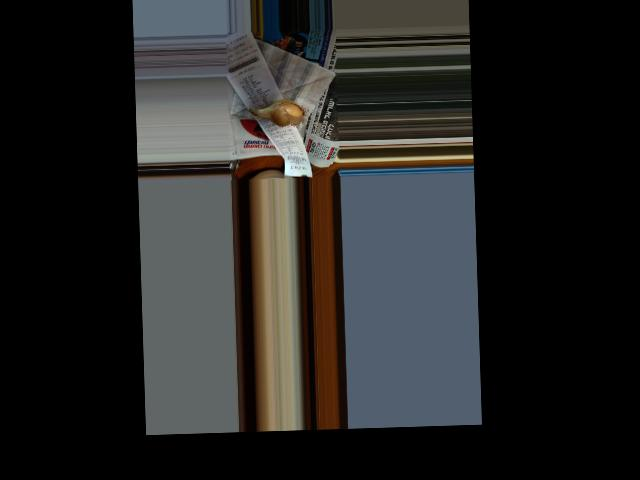onion: (254, 98, 305, 127)
